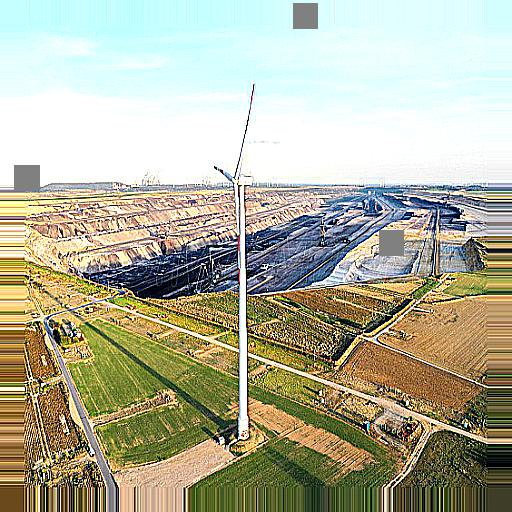wind turbine: (210, 80, 260, 440)
